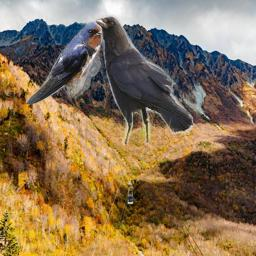Crow: (94, 15, 193, 145)
Swallow: (26, 21, 104, 104)
